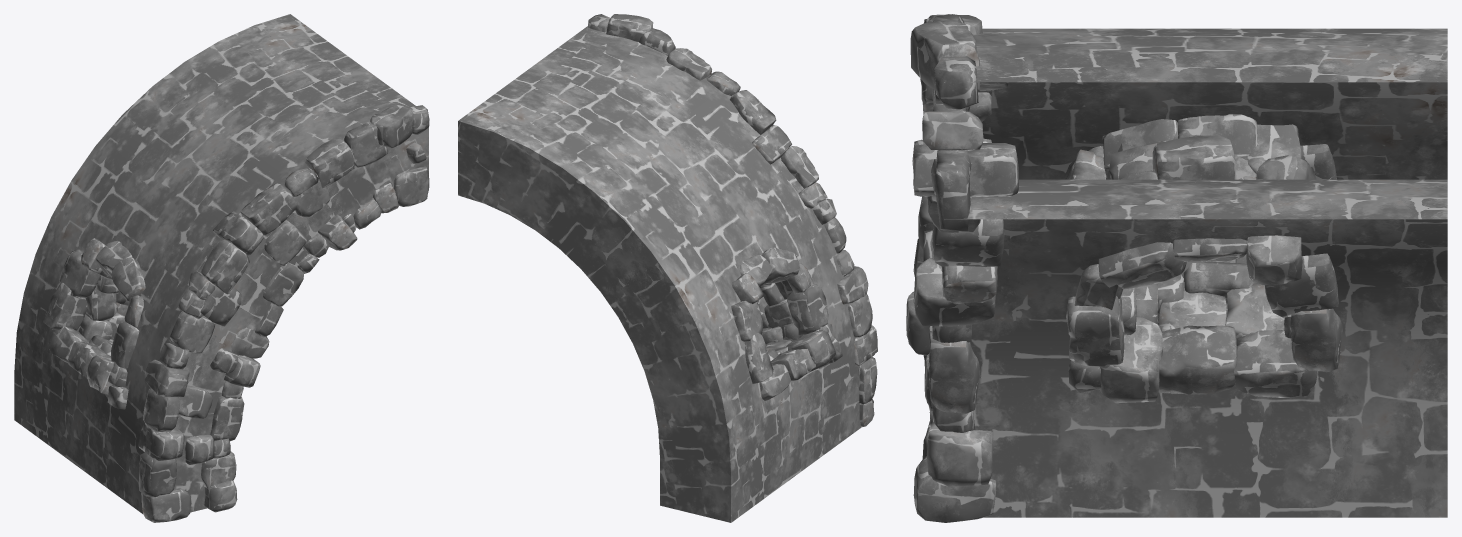
The model's file is Half_Roof_Window_SidePiece_Left.fbx.
3 views of the same model, side by side, from view 1: azimuth 30°, elevation 25°; view 2: azimuth 150°, elevation 25°; view 3: azimuth 270°, elevation 25° (orthographic). The views are drawn at different scales.
Visible parts, largest first — view 1: Half_Roof_Window_01, Rocks_07; view 2: Half_Roof_Window_01, Rocks_07; view 3: Half_Roof_Window_01, Rocks_07.
Part boxes in pixels (box(x1,y1,x2,y2)): Half_Roof_Window_01: box(14, 14, 428, 513); Rocks_07: box(43, 105, 429, 522); Half_Roof_Window_01: box(458, 26, 861, 522); Rocks_07: box(587, 14, 877, 427); Half_Roof_Window_01: box(944, 28, 1447, 517); Rocks_07: box(906, 14, 1342, 522).
Size of the model in its own units: 5.99 by 6.99 by 5.37.
